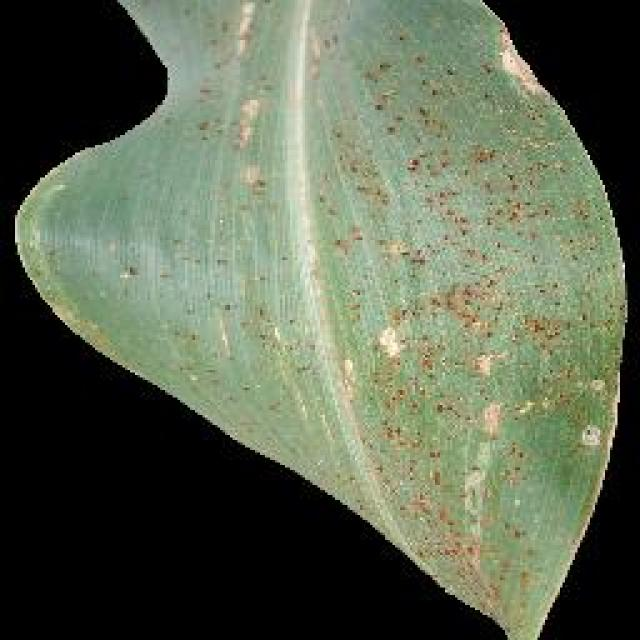Corn Common Rust: (308, 58, 615, 542)
